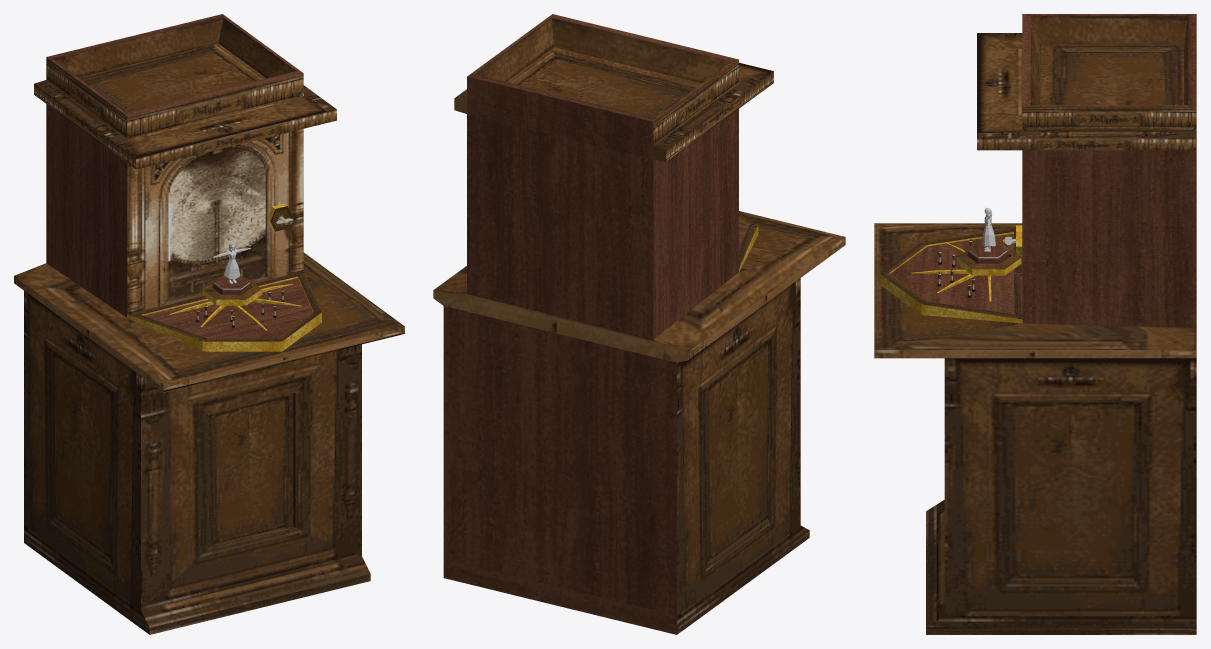
Rendered from MusicBox.fbx.
3 views of the same model, side by side, from view 1: azimuth 30°, elevation 25°; view 2: azimuth 150°, elevation 25°; view 3: azimuth 270°, elevation 25° (orthographic). The views are drawn at different scales.
Parts seen in each view (by area): view 1: MusicBox, DollVannesa, MusicBoxWoodenDoolSocket; view 2: MusicBox; view 3: MusicBox, DollVannesa, MusicBoxWoodenDoolSocket.
Boxes of the visible parts, x1,y1,x2,y2 form: MusicBox: (14, 14, 404, 634); DollVannesa: (213, 243, 251, 294); MusicBoxWoodenDoolSocket: (202, 277, 261, 305); MusicBox: (433, 14, 845, 634); MusicBox: (874, 14, 1196, 634); DollVannesa: (968, 207, 1008, 263); MusicBoxWoodenDoolSocket: (957, 245, 1021, 275).
Bounding box in the file's own units: 0.9294 × 1.77 × 0.9994.
